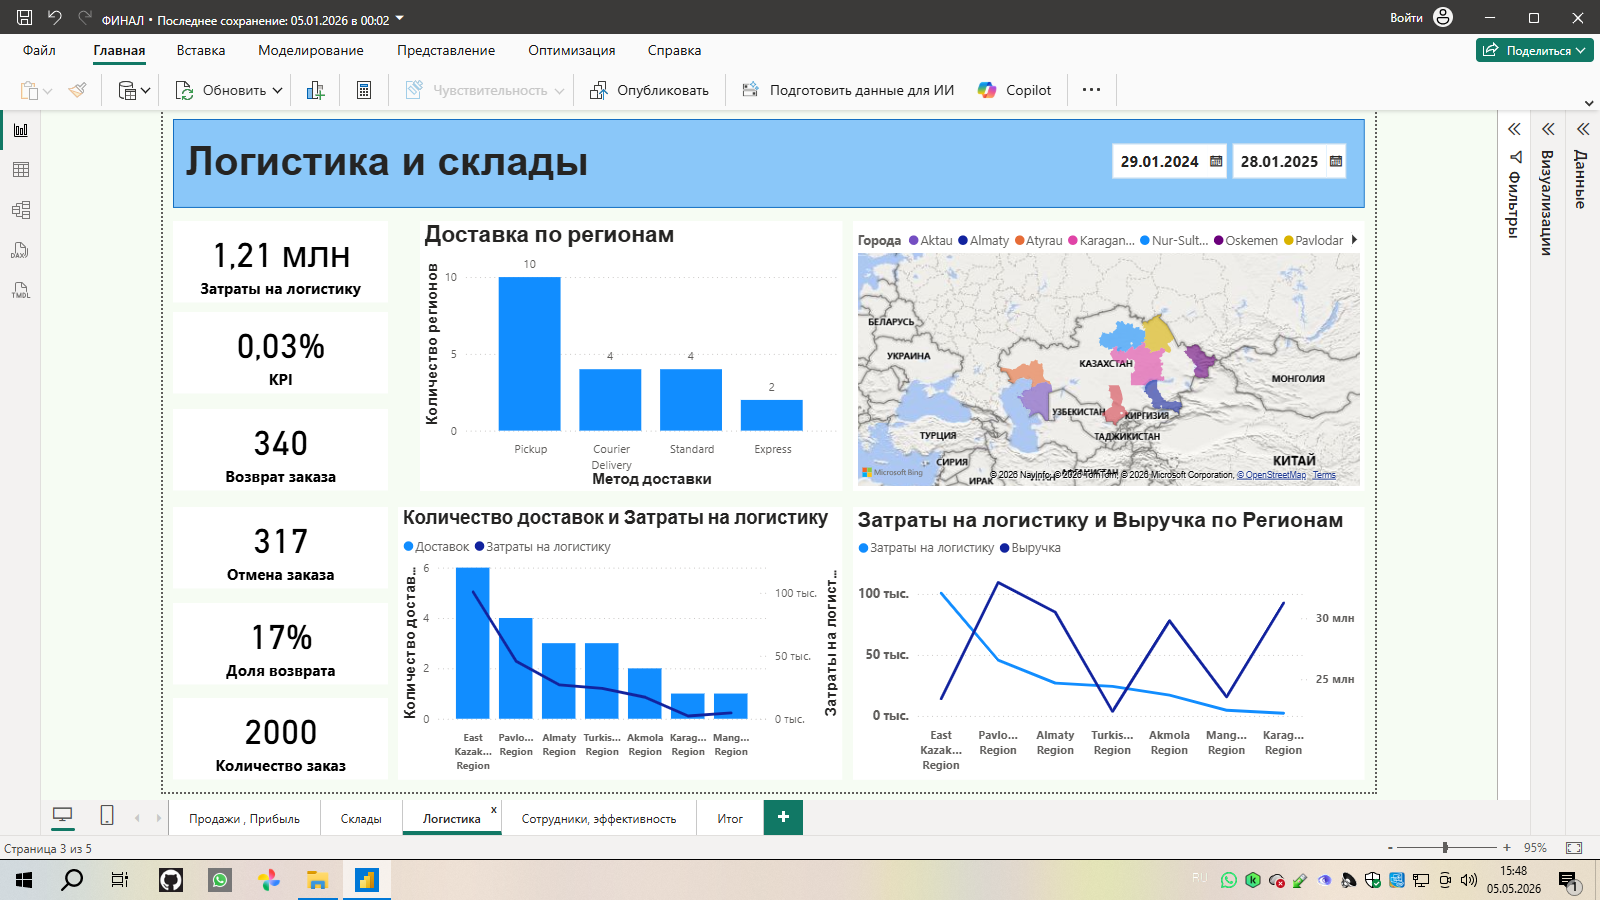

This screenshot's page, from the dashboard's own definition file:
{"tool":"powerbi","page":{"name":"Логистика","canvas":[1280,720],"ordinal":2},"visuals":[{"type":"shape","box":[10.3,9,1258.2,93.8],"z":0},{"type":"textbox","box":[19.3,24.4,456.2,64.3],"z":1000},{"type":"slicer","fields":{"Values":["Calendar.Date"]},"box":[989.6,25.7,278.9,60.4],"z":2000},{"type":"filledMap","fields":{"Category":["Student public_clients.region"],"Series":["Student public_clients.city"]},"box":[728.7,116.9,539.8,285.3],"z":3000},{"type":"card","fields":{"Values":["Summary.Logistics Costs"]},"box":[10.3,116.9,227.5,86.1],"z":4000},{"type":"card","fields":{"Values":["Summary.KPI"]},"box":[10.3,213.3,227.5,86.1],"z":5000},{"type":"card","fields":{"Values":["Summary.Отмена заказа"]},"box":[10.3,419,227.5,86.1],"z":6000},{"type":"card","fields":{"Values":["Summary.Возврат заказа"]},"box":[10.3,316.1,227.5,86.1],"z":7000},{"type":"card","fields":{"Values":["Summary.Доля возврата"]},"box":[10.3,520.5,227.5,86.1],"z":8000},{"type":"card","fields":{"Values":["Summary.Количество заказ"]},"box":[10.3,620.7,227.5,86.1],"z":9000},{"type":"columnChart","title":"Доставка по регионам","fields":{"Category":["Student tariffs_and_shipping.shipping_method"],"Y":["CountNonNull(Student tariffs_and_shipping.region)"]},"box":[271.2,116.9,445.9,285.3],"z":10000},{"type":"lineStackedColumnComboChart","title":"Количество доставок и Затраты на логистику ","fields":{"Y2":["Summary.Затраты на логистику"],"Category":["Student tariffs_and_shipping.region"],"Y":["CountNonNull(Student tariffs_and_shipping.shipping_method)"]},"box":[248,419,469.1,287.9],"z":11000},{"type":"lineChart","fields":{"Y":["Summary.Затраты на логистику"],"Y2":["Summary.Выручка"],"Category":["Student tariffs_and_shipping.region"]},"box":[728.7,419,539.8,287.9],"z":12000}]}

Visuals, with their boxes on the page's 1280x720 design canvas (x1, y1, x2, y2). These are canvas units, not pixel positions in the 1600x900 screenshot, which may show the page scaled, cropped or inside an application window:
shape: 10,9,1268,103
textbox: 19,24,476,89
slicer - Calendar.Date: 990,26,1268,86
filledMap - Student public_clients.region x Student public_clients.city: 729,117,1268,402
card - Summary.Logistics Costs: 10,117,238,203
card - Summary.KPI: 10,213,238,299
card - Summary.Отмена заказа: 10,419,238,505
card - Summary.Возврат заказа: 10,316,238,402
card - Summary.Доля возврата: 10,520,238,607
card - Summary.Количество заказ: 10,621,238,707
"Доставка по регионам" columnChart: 271,117,717,402
"Количество доставок и Затраты на логистику " lineStackedColumnComboChart: 248,419,717,707
lineChart - Summary.Затраты на логистику x Summary.Выручка: 729,419,1268,707
